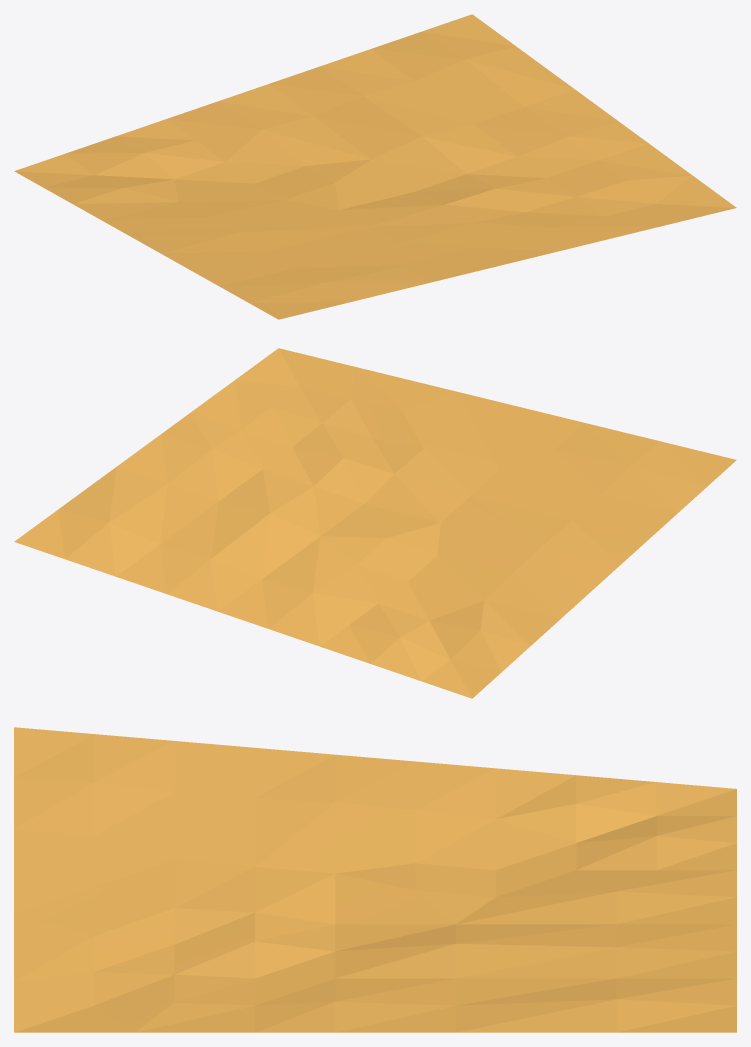
Rendered from Sand_04.fbx.
The picture shows the model from 3 angles, top to bottom: view 1: azimuth 30°, elevation 25°; view 2: azimuth 150°, elevation 25°; view 3: azimuth 270°, elevation 25°; orthographic projection. The views are drawn at different scales.
Visible parts, largest first — view 1: Sand_04; view 2: Sand_04; view 3: Sand_04.
Boxes of the visible parts, left/top/right/bottom form: Sand_04: left=14, top=14, right=736, bottom=319; Sand_04: left=14, top=348, right=736, bottom=698; Sand_04: left=14, top=727, right=736, bottom=1032.
Size of the model in its own units: 1200 by 113 by 1200.
